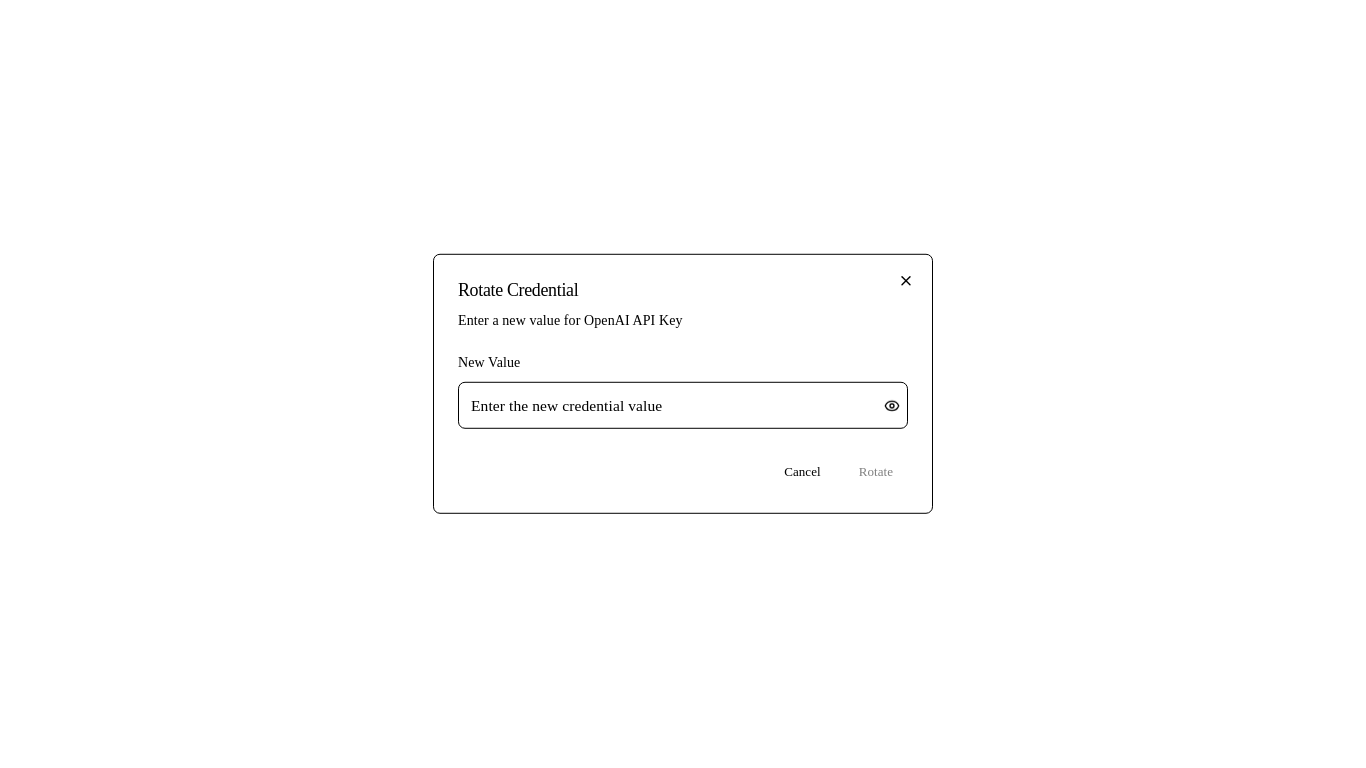
Test: RotateCredentialDialog › Form Validation › enables submit button when value has content
This screenshot has width=1366, height=768.
In the password field labelled "New Value": (683, 406) [458,382,908,429], type "new-secret-value"
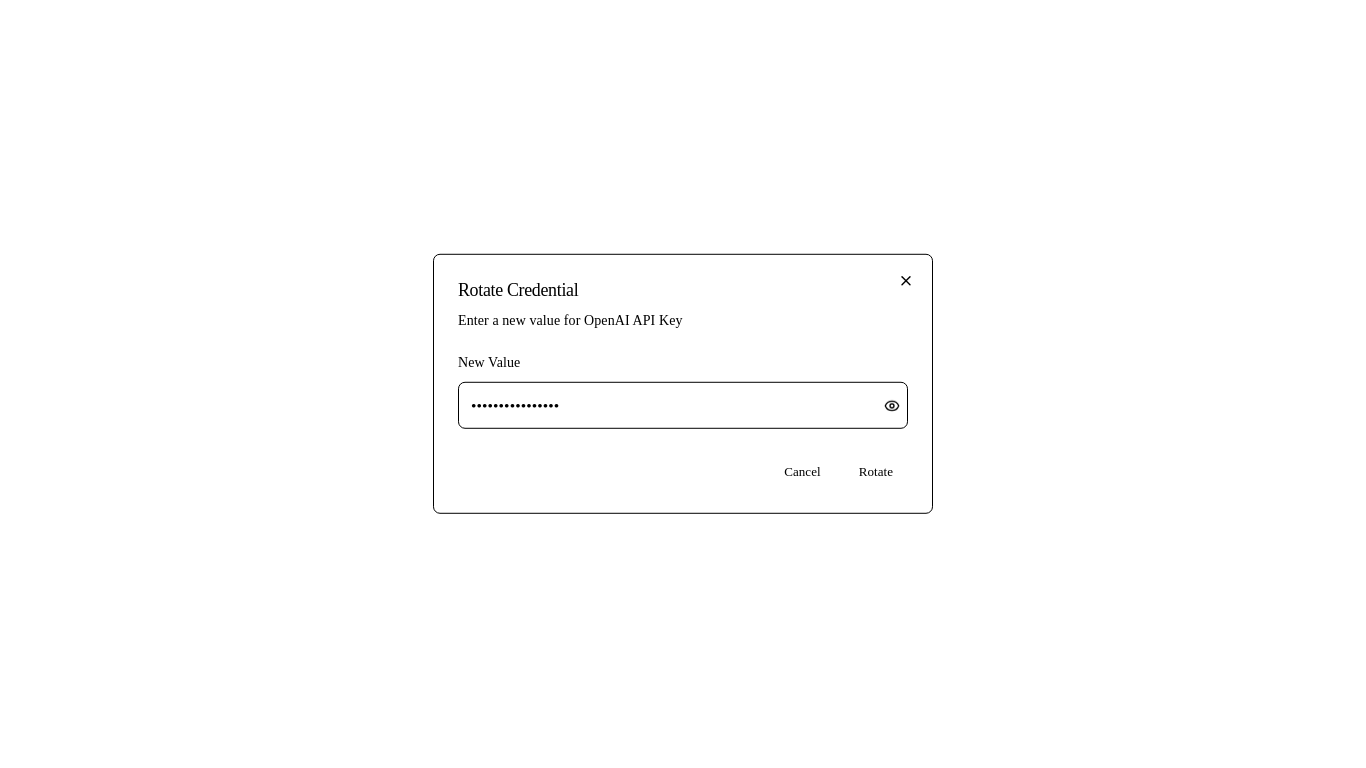
expect the button "Rotate" is enabled: met, box [844,453,908,489]
